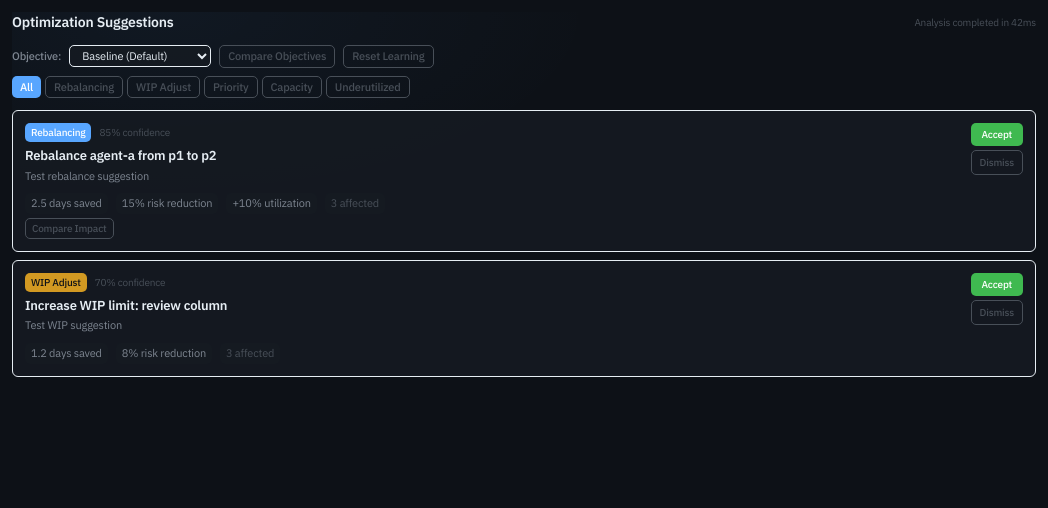
Test: OptimizationPanel — Story 56.10 impact analysis › renders Compare Impact button and shows ImpactDetail on click
The width and height of the screenshot is (1048, 508).
Expected: the heading "Rebalance agent-a from p1 to p2" is shown, top-left (25, 147), bottom-right (216, 164)
Click the button with aria-label "Compare impact before and after".
click(69, 228)  # box top-left (25, 218), bottom-right (114, 239)
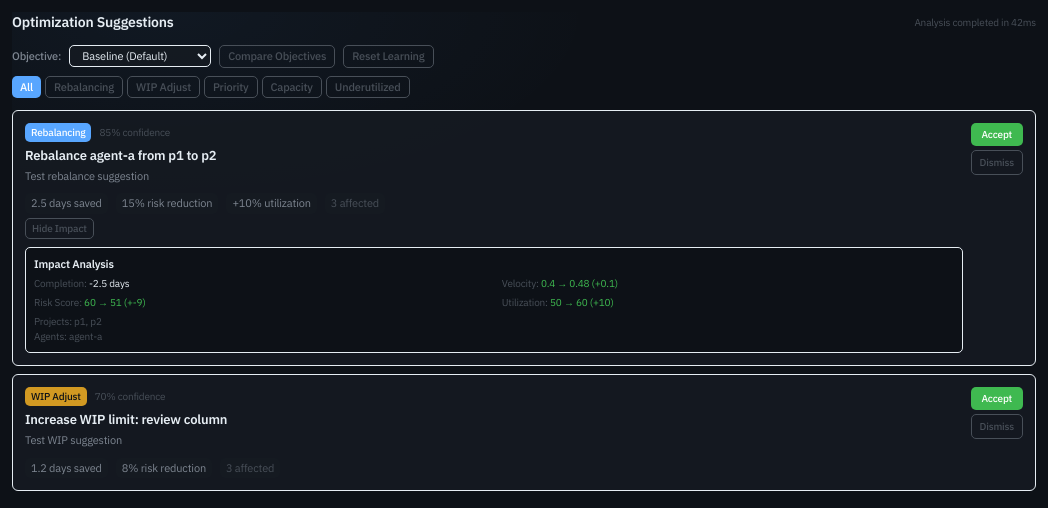
Now the heading "Impact Analysis" is shown, box top-left (34, 257), bottom-right (114, 271)
Now the text "Velocity:" is shown, box top-left (502, 277), bottom-right (539, 290)
Now the text "Risk Score:" is shown, box top-left (34, 296), bottom-right (82, 309)
